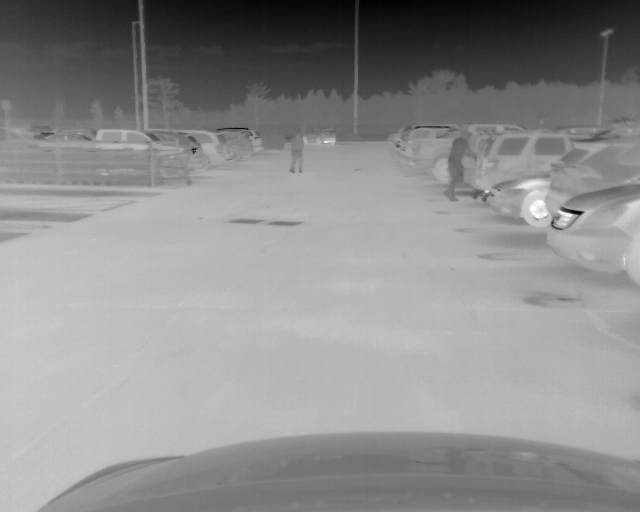car: (542, 184, 640, 285), (544, 134, 640, 218), (472, 130, 582, 195), (94, 128, 204, 181), (487, 170, 557, 227), (398, 123, 461, 184), (189, 131, 233, 168), (216, 124, 252, 163), (303, 127, 336, 146), (246, 125, 264, 157)
people: (441, 129, 478, 198), (286, 130, 304, 174)
